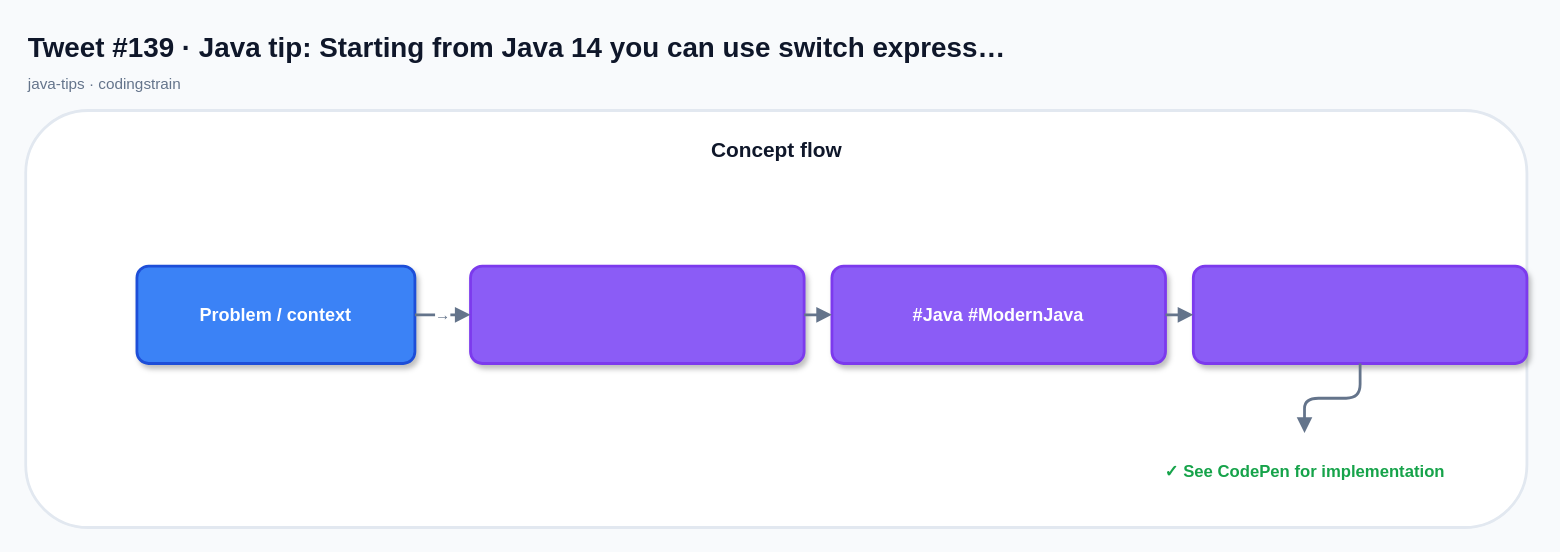
The diagram is 1560 pixels wide and 552 high, and some of its shapes have lost their labels. The shapes that lost their labels are listed below. From the top down, each one's centre as x and y in pixels, then its label:
point (638, 316): 💡Java tip: Starting from Java 14 you can use switch expressions for sh
point (1361, 316): Runnable sample: `java-tips`
